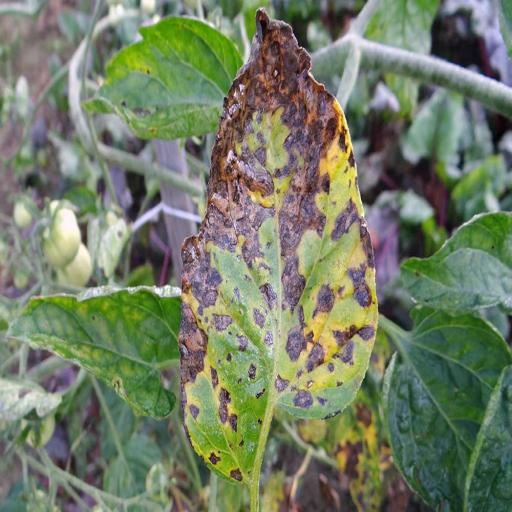disease_tomato: (180, 4, 380, 483)
